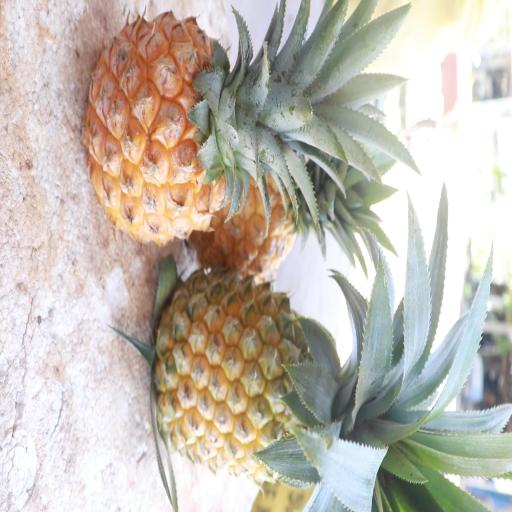Pineapple - v8 v1: (78, 8, 326, 251), (148, 268, 422, 483), (184, 121, 352, 284)
